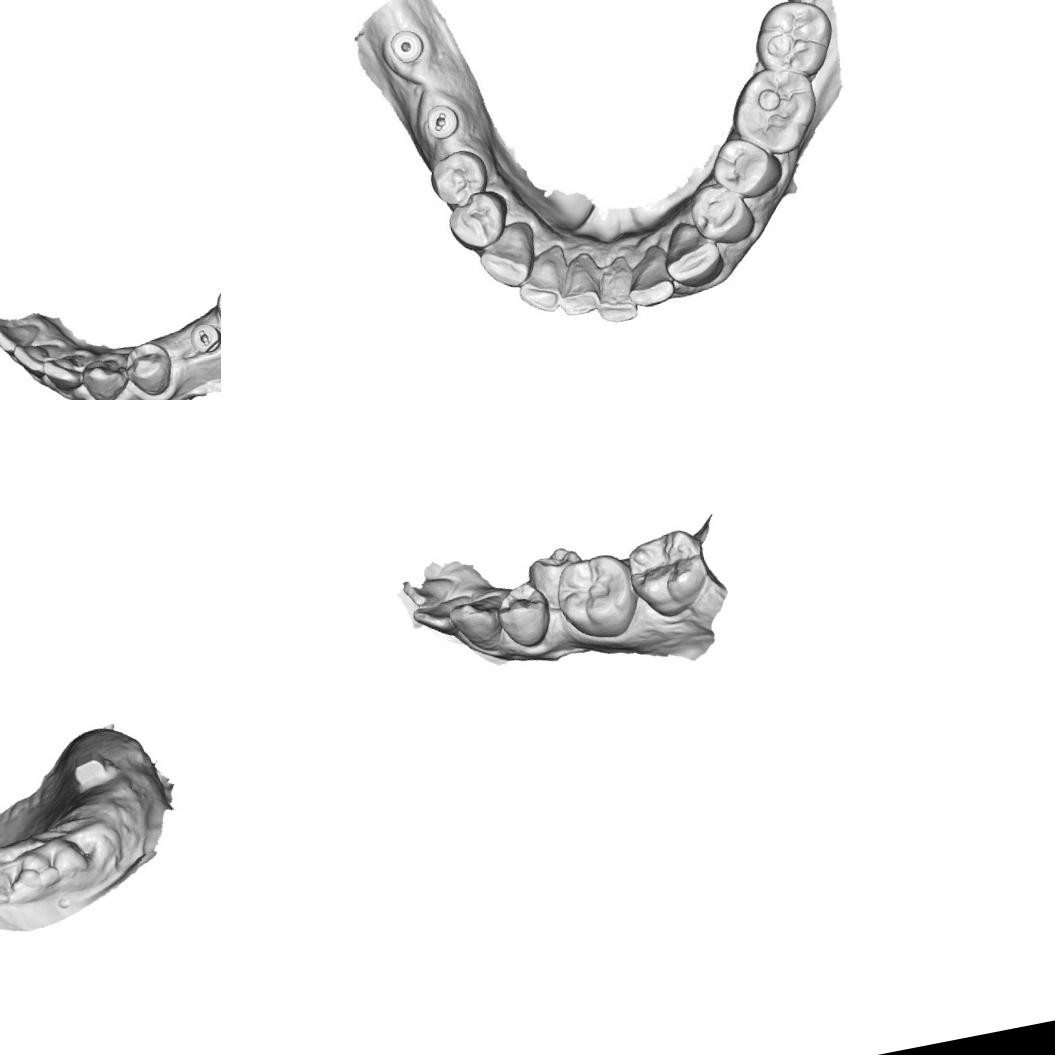canine: (656, 215, 727, 293), (470, 218, 540, 294), (444, 592, 510, 657), (76, 351, 133, 400)
implant: (384, 22, 430, 70)
implant_minus: (418, 96, 464, 145), (184, 317, 221, 359)
incisor: (618, 244, 678, 310), (410, 591, 478, 644), (589, 262, 644, 326), (512, 254, 566, 318), (550, 258, 605, 318), (10, 334, 68, 382), (38, 349, 94, 397), (0, 313, 43, 356)
molar: (722, 58, 825, 162), (548, 548, 646, 646), (620, 524, 713, 624), (746, 0, 840, 86)
premolar: (705, 130, 786, 206), (684, 176, 760, 252), (522, 542, 592, 614), (442, 186, 514, 255), (490, 578, 557, 652), (424, 142, 494, 212), (118, 336, 176, 400)
